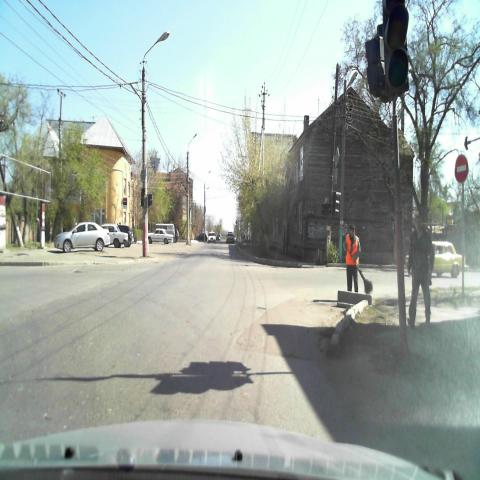3_1: (454, 154, 469, 184)
